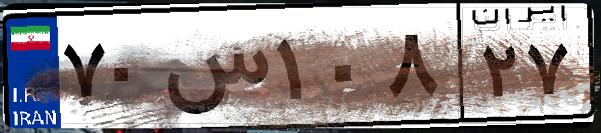0: (330, 28, 385, 110), (110, 28, 158, 98)
1: (270, 28, 330, 110)
2: (475, 38, 525, 113)
7: (57, 26, 110, 100), (525, 38, 570, 115)
8: (385, 28, 445, 110)
س: (158, 20, 270, 120)
